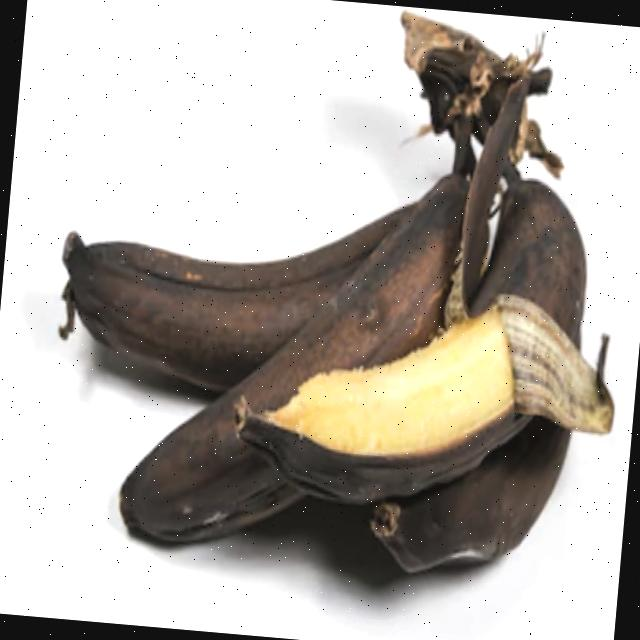rotten banana: (1, 8, 640, 640)
